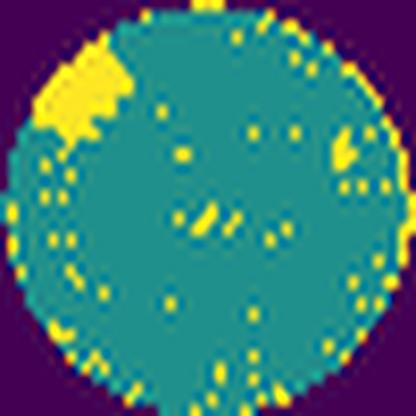Edge-Loc: (26, 30, 148, 154)
